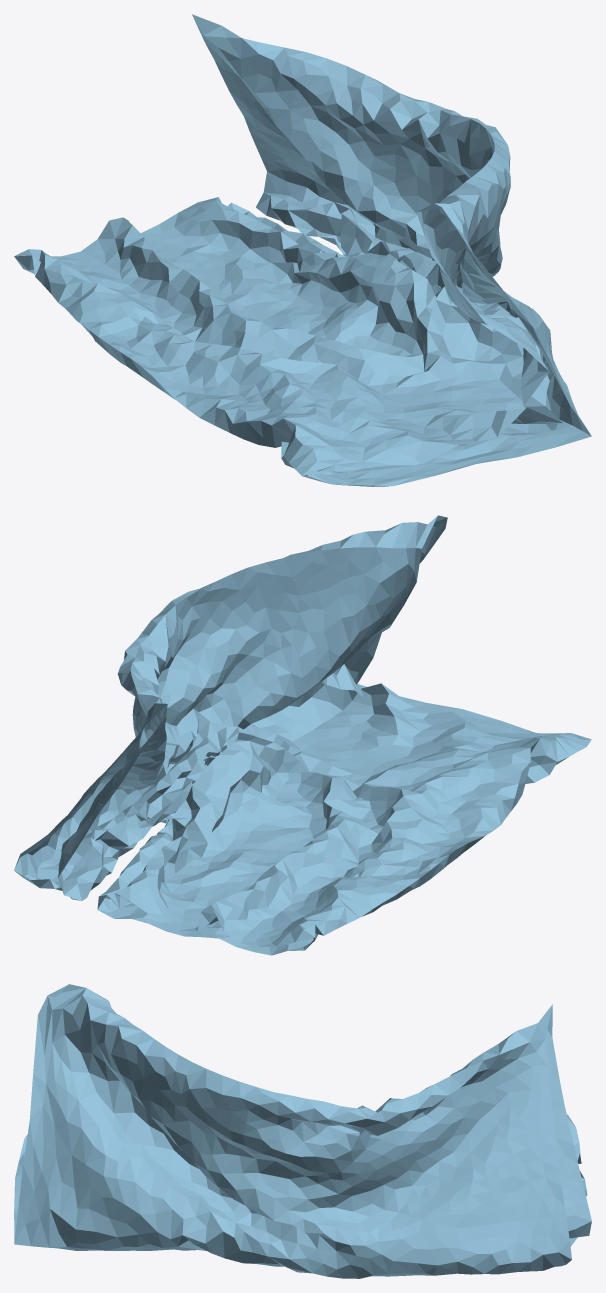
File: frame_13.glb
The picture shows the model from 3 angles, top to bottom: view 1: azimuth 30°, elevation 25°; view 2: azimuth 150°, elevation 25°; view 3: azimuth 270°, elevation 25°; orthographic projection. The views are drawn at different scales.
Parts seen in each view (by area): view 1: frame_13.obj; view 2: frame_13.obj; view 3: frame_13.obj.
Part boxes in pixels (bbox=[...]): frame_13.obj: bbox=[14, 14, 591, 486]; frame_13.obj: bbox=[14, 515, 591, 955]; frame_13.obj: bbox=[14, 984, 591, 1278].
Size of the model in its own units: 0.9465 by 0.6383 by 1.5.
